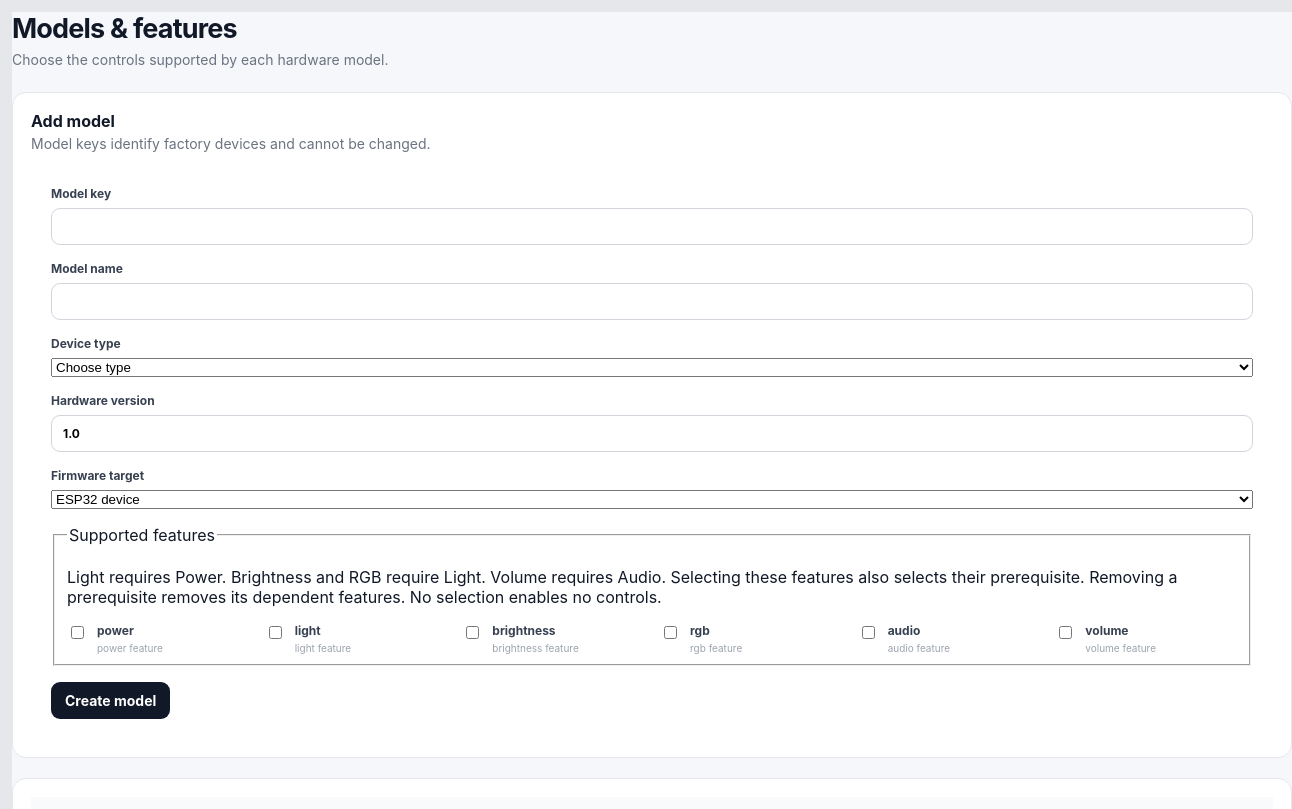
Test: adds feature prerequisites and shows create failures without losing the form
The image size is (1292, 809).
Type "new" into the field labelled "Model key" at (652, 226), box [51,208,1253,245]
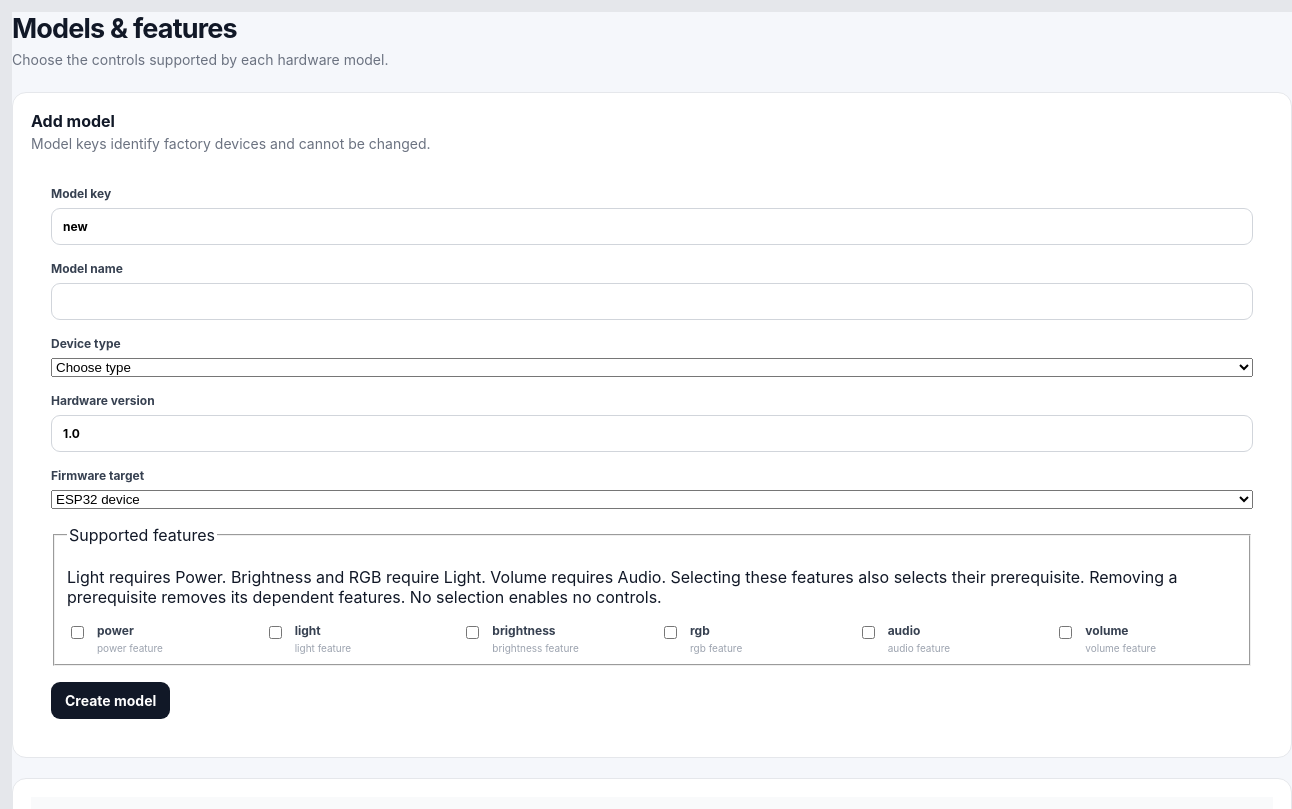
Type "New lamp" into the field labelled "Model name" at (652, 302), box [51,283,1253,320]
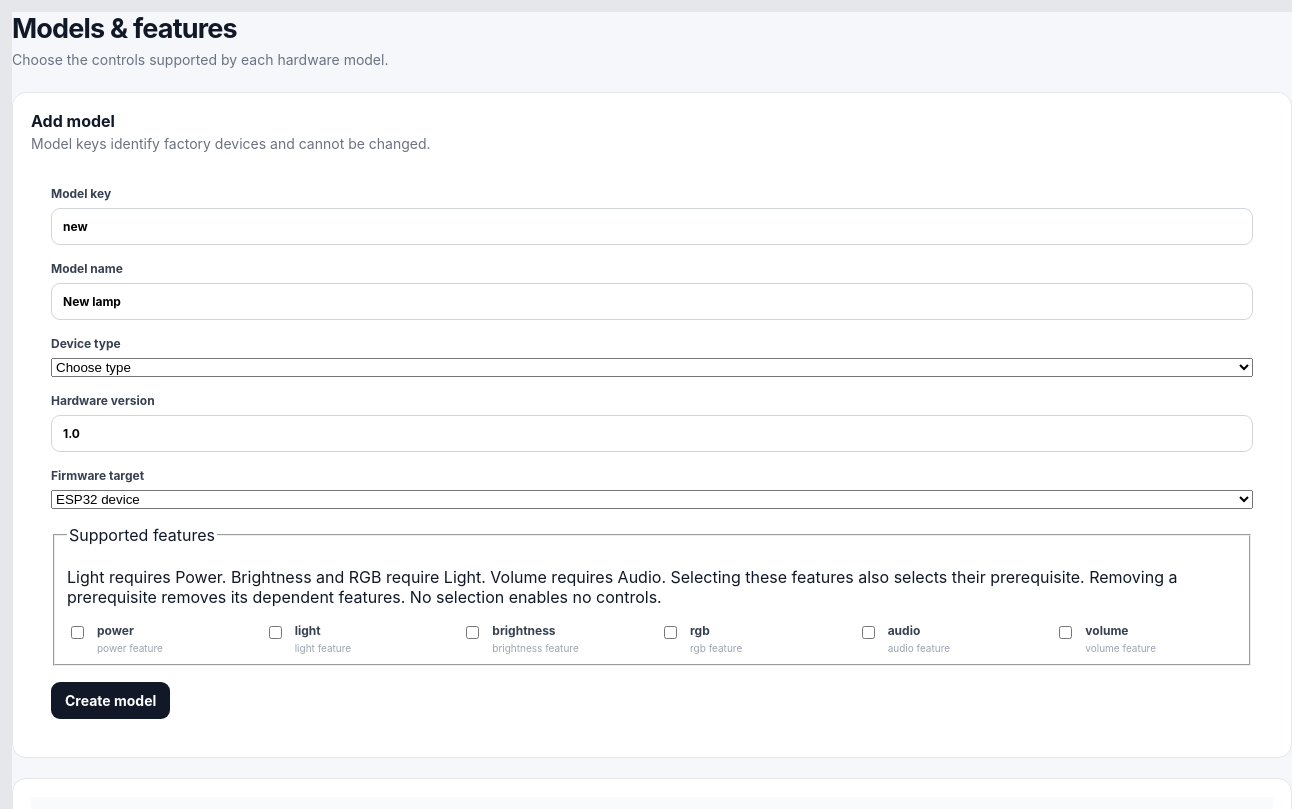
Select "Light" in the dropdown labelled "Device type" at (652, 368), box [51,358,1253,377]
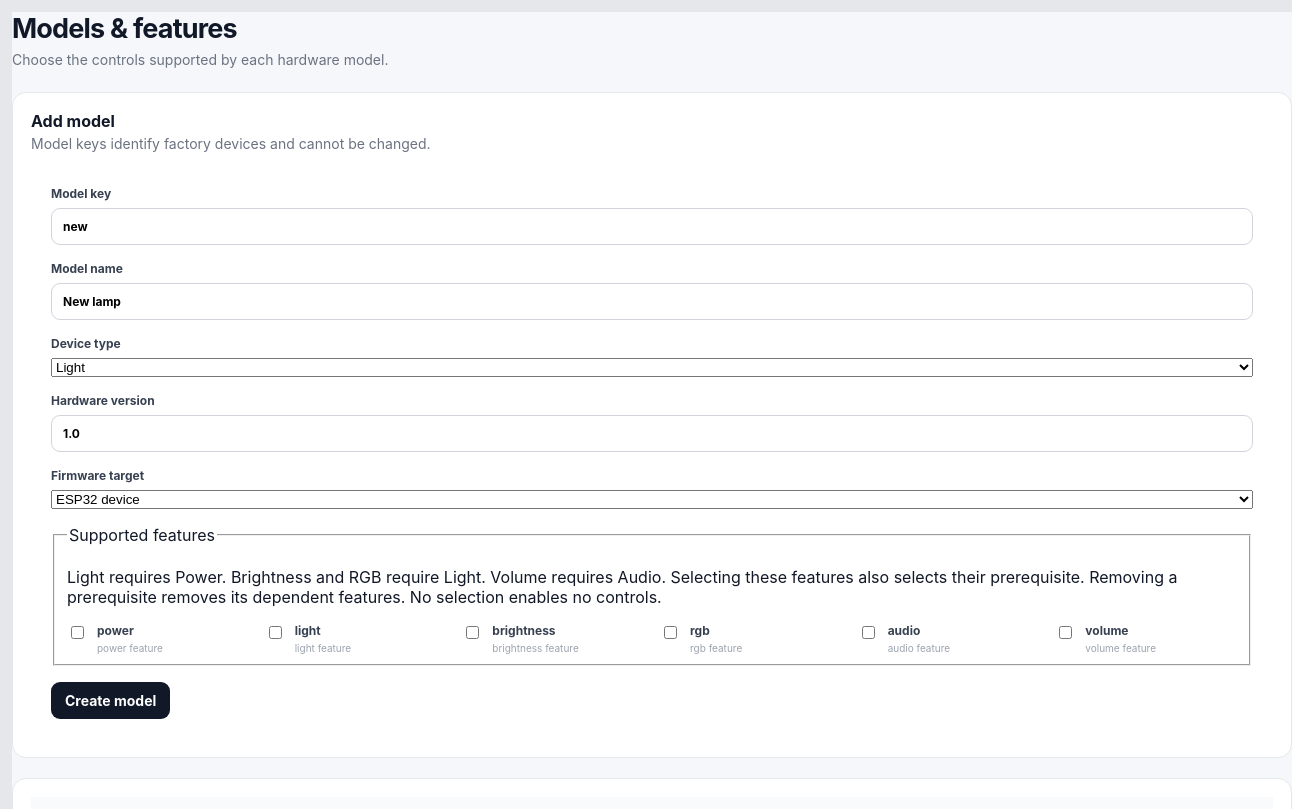
Click the checkbox labelled "volume" at (1066, 632), box [1059,626,1072,639]
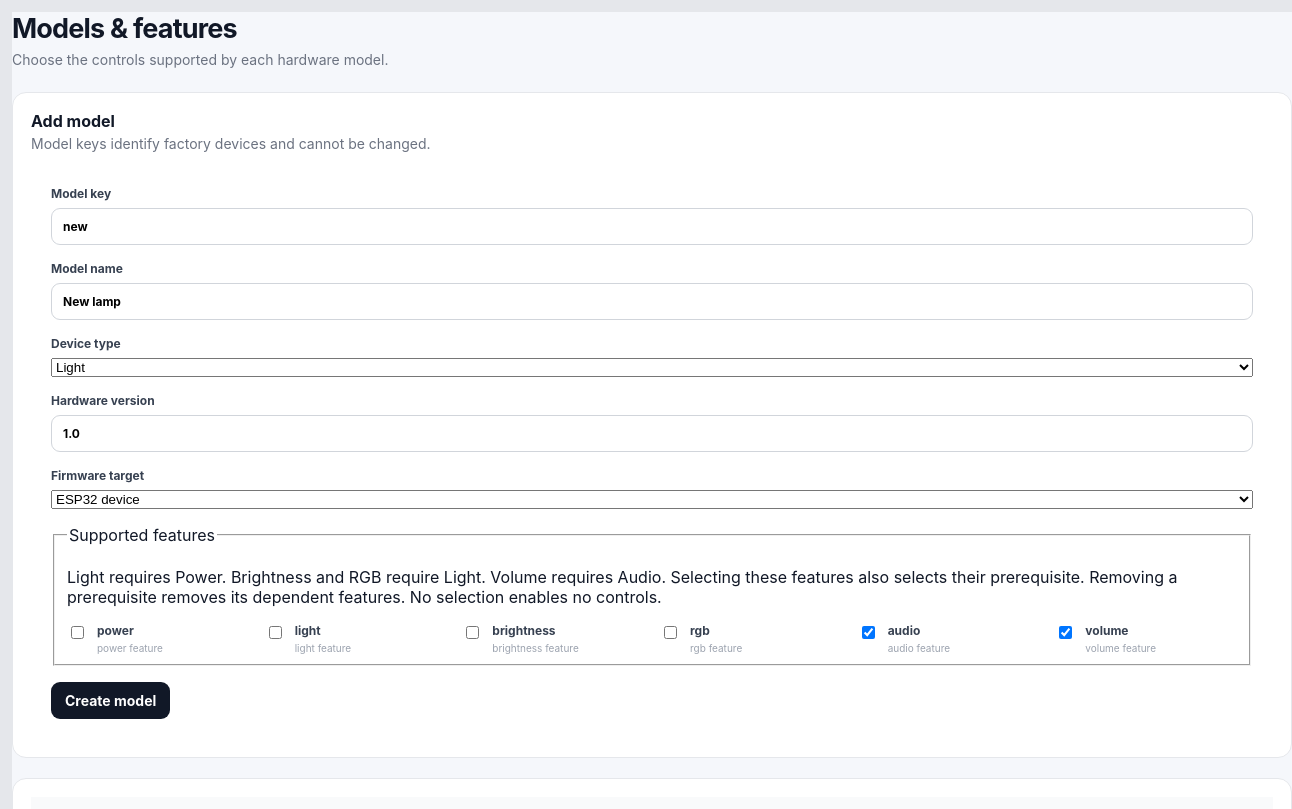
expect the checkbox labelled "audio" is checked: met, box [862,626,875,639]
Click the button "Create model" at (111, 700), box [51,682,170,719]
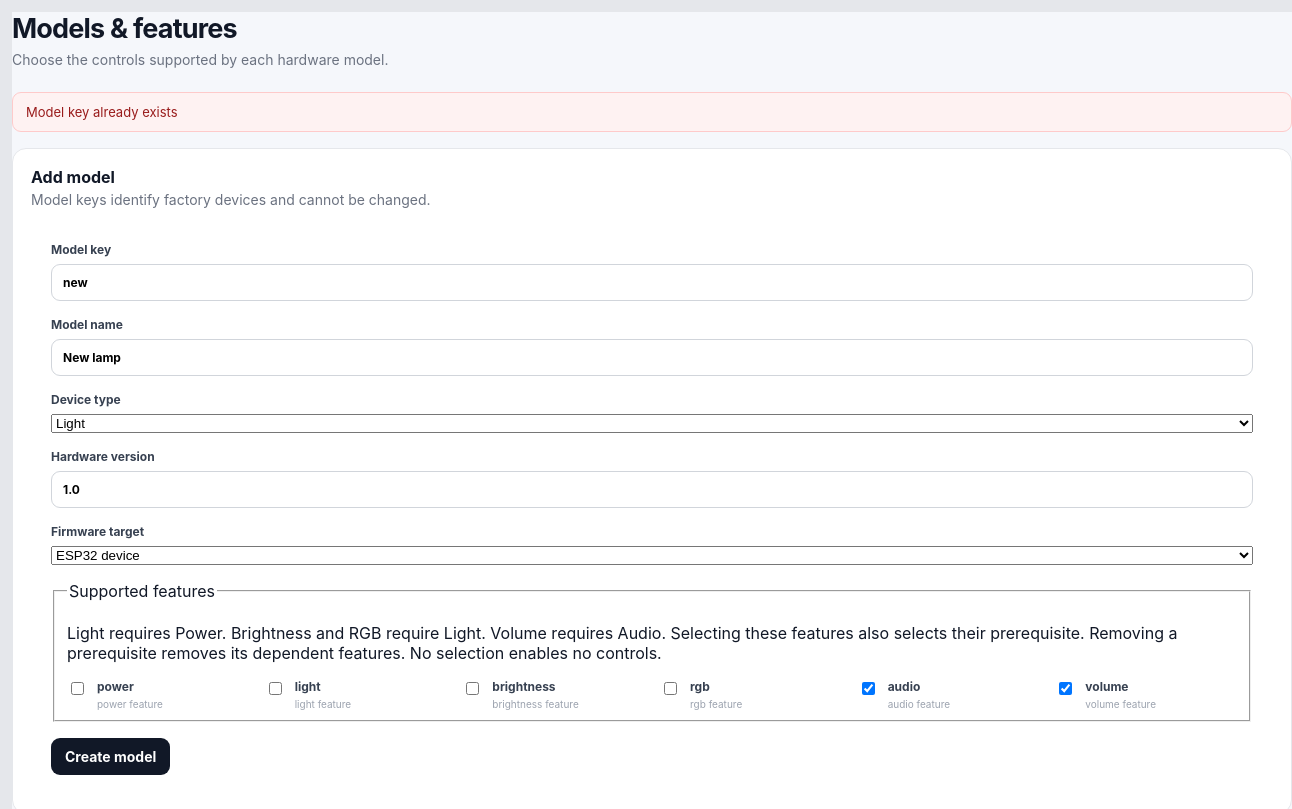
expect the text "Model key already exists" is shown: met, box [12,92,1291,132]
